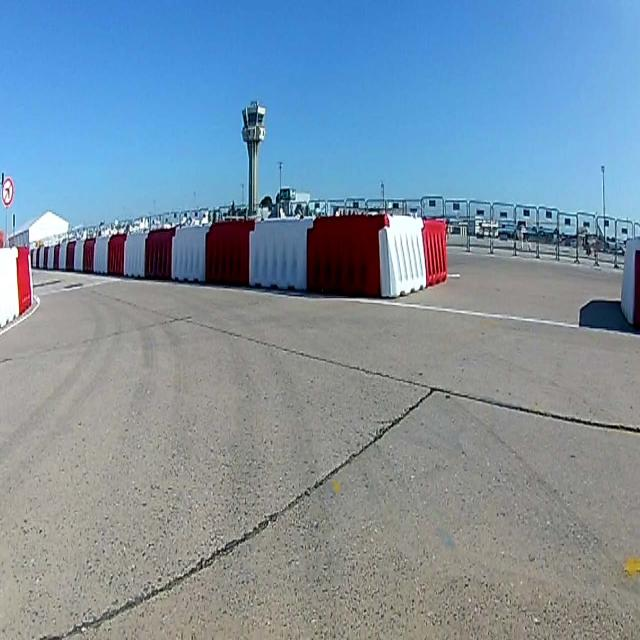soladonulmez: (1, 176, 15, 207)
